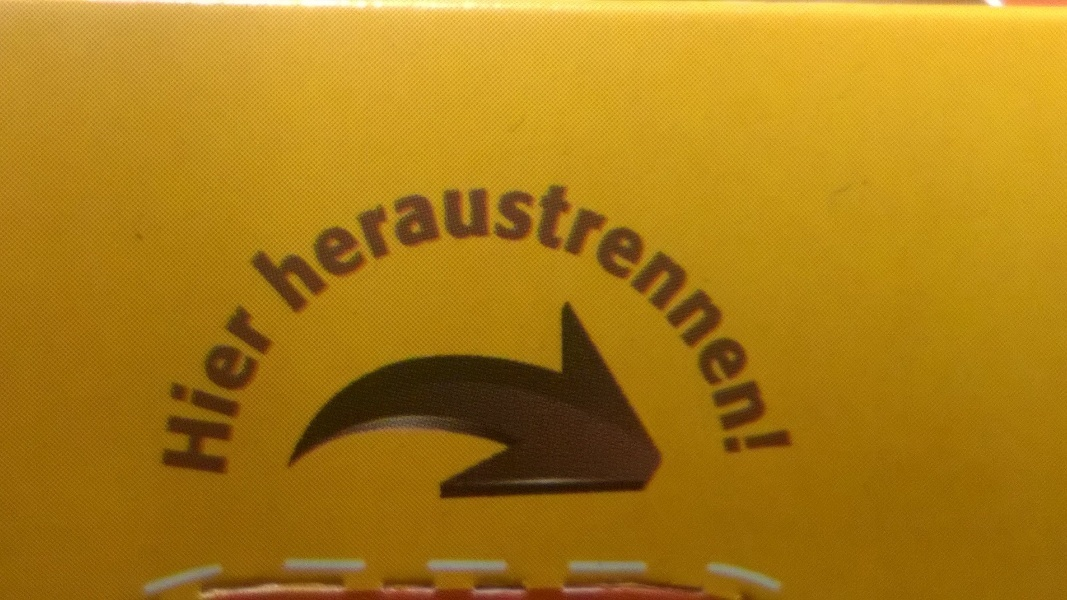text: (257, 183, 272, 455), (273, 183, 288, 455), (289, 183, 304, 455), (305, 183, 320, 455), (321, 183, 336, 455), (337, 183, 352, 455), (353, 183, 368, 455), (369, 183, 384, 455), (385, 183, 400, 455), (401, 183, 416, 455), (417, 183, 432, 455), (433, 183, 448, 455), (449, 183, 464, 455), (465, 183, 480, 455), (481, 183, 496, 455), (497, 183, 512, 455), (513, 183, 528, 455), (529, 183, 544, 455), (545, 183, 560, 455), (561, 183, 576, 455), (577, 183, 592, 455), (593, 183, 608, 455), (609, 183, 624, 455), (625, 183, 640, 455), (641, 183, 656, 455), (657, 183, 672, 455), (673, 183, 688, 455), (689, 183, 704, 455), (705, 183, 720, 455), (721, 183, 736, 455), (737, 183, 752, 455), (753, 183, 768, 455), (769, 183, 784, 455), (161, 307, 176, 475), (177, 307, 192, 475), (193, 307, 208, 475), (209, 307, 224, 475), (225, 307, 240, 475), (241, 307, 256, 475), (785, 183, 794, 455), (257, 307, 271, 475), (251, 183, 256, 455), (159, 307, 160, 475)
